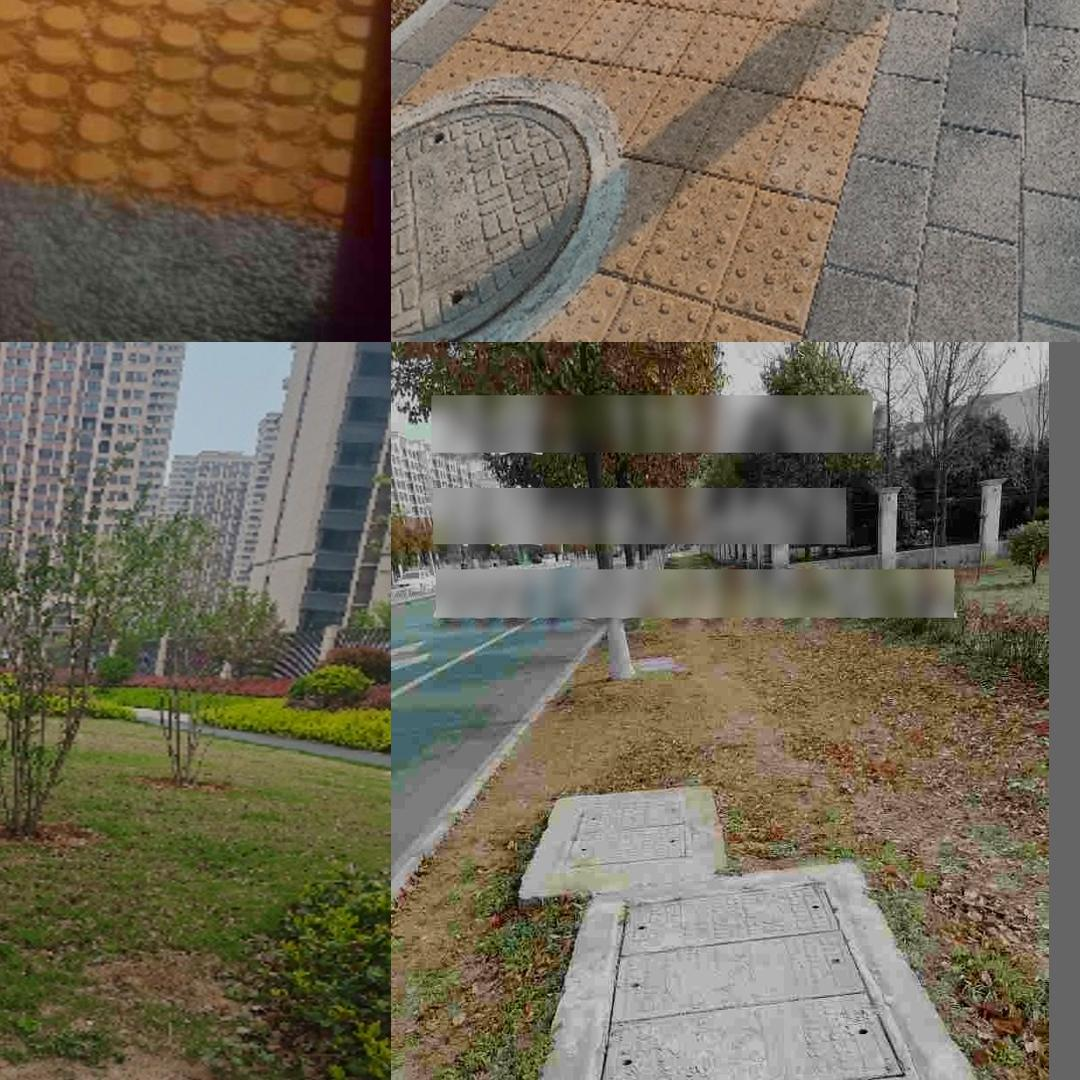good: (586, 878, 921, 1080), (391, 89, 590, 339), (553, 787, 695, 872)
